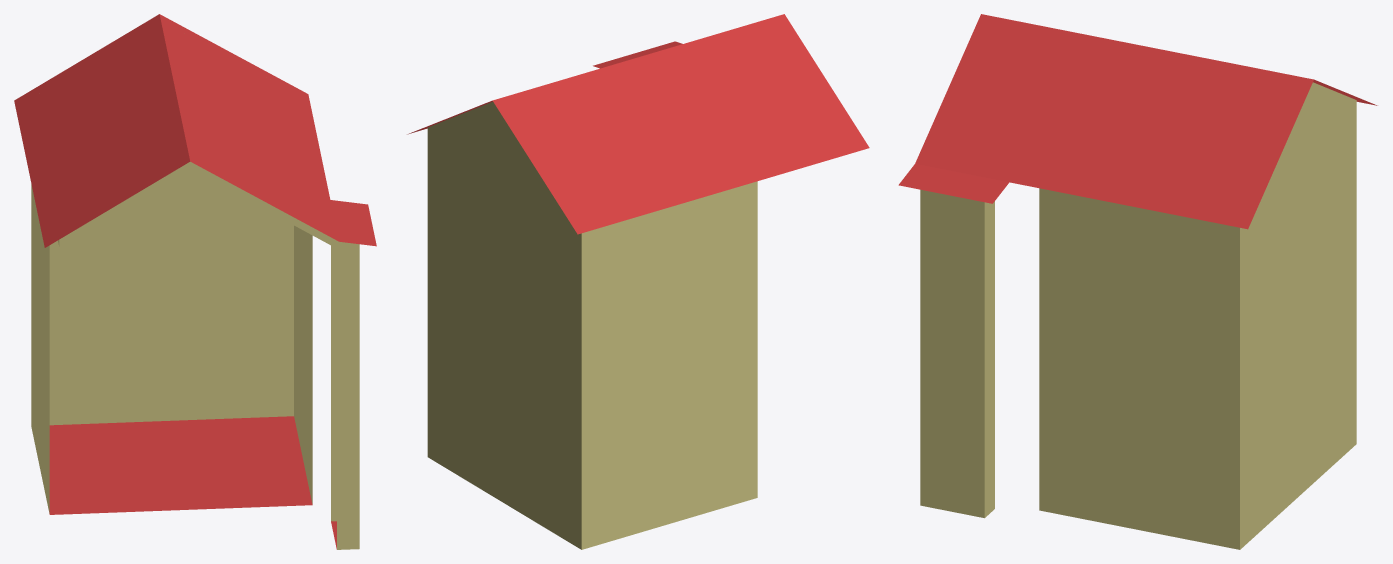
3 renders of one model, left to right at view 1: azimuth 30°, elevation 25°; view 2: azimuth 150°, elevation 25°; view 3: azimuth 270°, elevation 25°, orthographic. The views are drawn at different scales.
Size of the model in its own units: 13.2 by 14.55 by 14.03.
